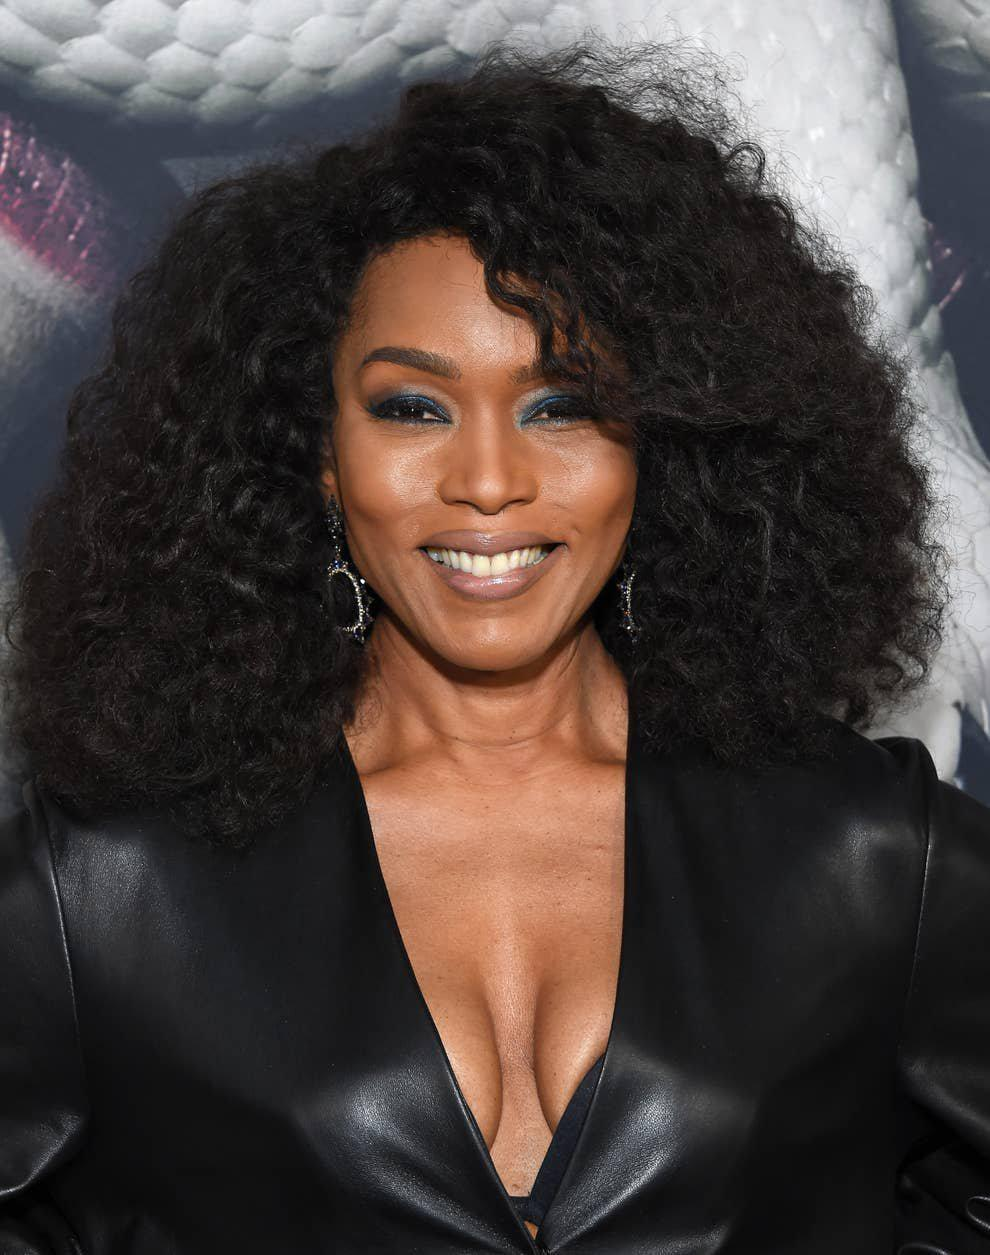Sober: (343, 271, 620, 664)
